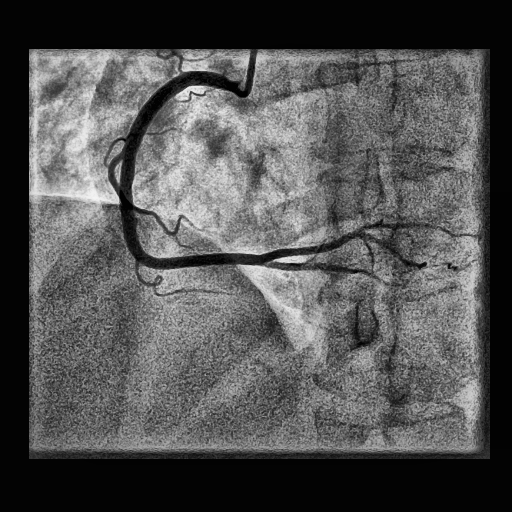pborca: (268, 223, 457, 261)
pda: (260, 260, 402, 286)
rca: (119, 71, 271, 269)
